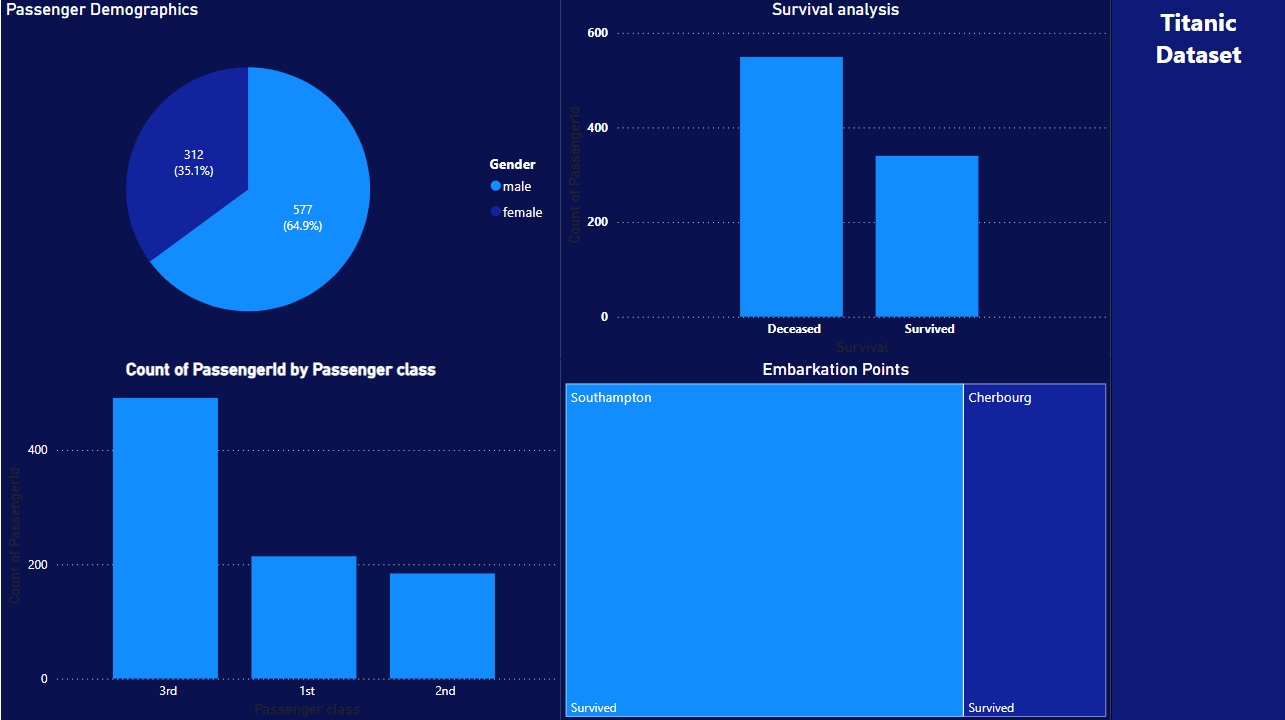

The page's visual inventory and layout, read from the dashboard file:
{"tool":"powerbi","page":{"name":"Page 1","canvas":[1280,720],"ordinal":0},"visuals":[{"type":"pieChart","title":"Passenger Demographics","fields":{"Y":["CountNonNull(Passengers.PassengerId)"],"Category":["Passengers.Gender"]},"box":[0,0,557.5,359.1],"z":0},{"type":"columnChart","fields":{"Category":["Passengers.Passenger class"],"Y":["CountNonNull(Passengers.PassengerId)"]},"box":[0,359.1,557.5,360.9],"z":1000},{"type":"columnChart","title":"Survival analysis","fields":{"Y":["CountNonNull(Passengers.PassengerId)"],"Category":["Passengers.Survival"]},"box":[557.5,0,548,359.1],"z":2000},{"type":"treemap","title":"Embarkation Points","fields":{"Group":["Passengers.Embarked"],"Values":["Sum(Passengers.Parch)"],"Details":["Passengers.Survival"]},"box":[557.5,359.1,548,360.9],"z":3000},{"type":"textbox","box":[1105.5,0,173.9,720],"z":4000}]}

Visuals, with their boxes in screenshot pixels (x1, y1, x2, y2), scaled from the page's 1280x720 canvas onto the 1285x720 screenshot:
"Passenger Demographics" pieChart: detection(0, 0, 560, 359)
columnChart - Passengers.Passenger class x CountNonNull(Passengers.PassengerId): detection(0, 359, 560, 719)
"Survival analysis" columnChart: detection(560, 0, 1110, 359)
"Embarkation Points" treemap: detection(560, 359, 1110, 719)
textbox: detection(1110, 0, 1284, 719)
